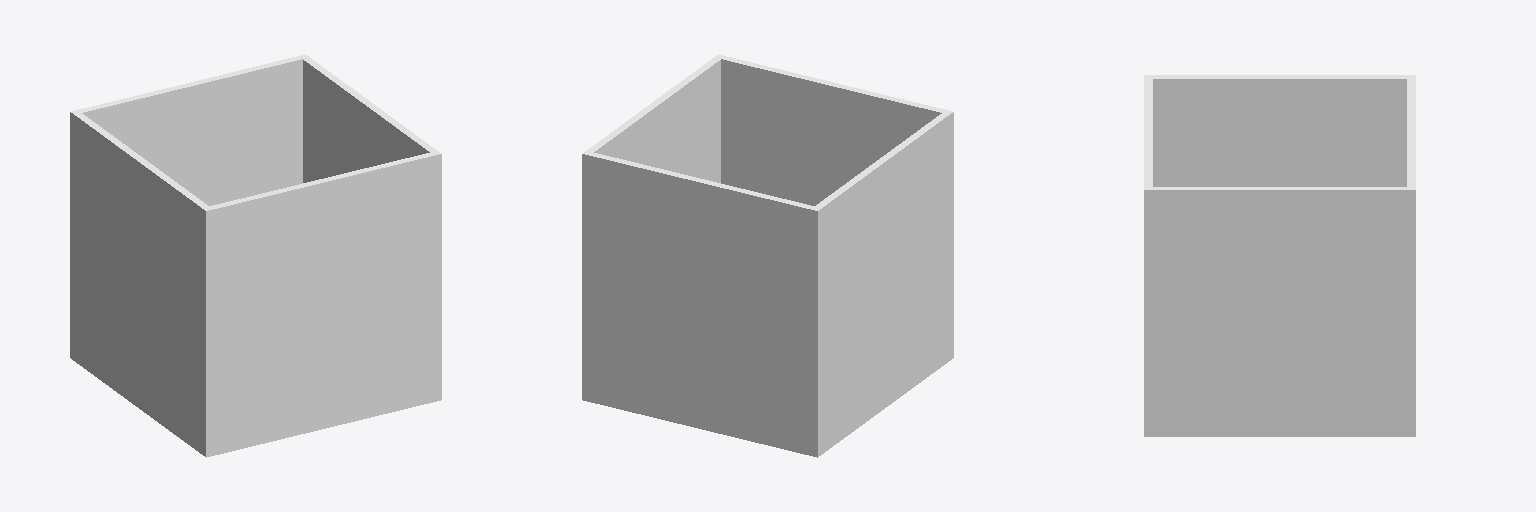
The picture shows the model from 3 angles: view 1: azimuth 30°, elevation 25°; view 2: azimuth 150°, elevation 25°; view 3: azimuth 270°, elevation 25°; orthographic projection.
Visible parts, largest first — view 1: test-69; view 2: test-69; view 3: test-69.
Boxes of the visible parts, x1,y1,x2,y2 form: test-69: [70, 54, 441, 457]; test-69: [582, 54, 953, 457]; test-69: [1144, 75, 1415, 436].
Size of the model in its own units: 32 by 32 by 32.